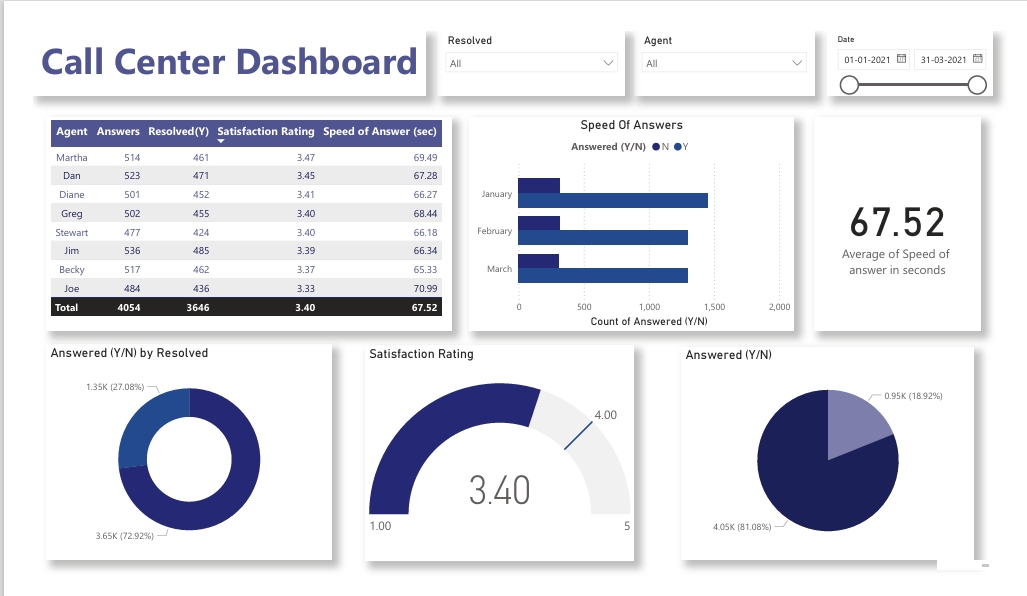

The dashboard page shown, as its layout file describes it:
{"tool":"powerbi","page":{"name":"Page 1","canvas":[1280,720],"ordinal":0},"visuals":[{"type":"slicer","fields":{"Values":["calls data.Agent"]},"box":[801.7,0,240,86.7],"z":0},{"type":"slicer","fields":{"Values":["calls data.Resolved"]},"box":[540,0,250,86.7],"z":1000},{"type":"slicer","fields":{"Values":["calls data.Date"]},"box":[1060,0,220,86.7],"z":2000},{"type":"gauge","title":" Satisfaction Rating","fields":{"Y":["calls data.Satisfaction rating"],"MaxValue":["calls data.Satisfaction rating"]},"box":[443.3,420,358.3,286.7],"z":3000},{"type":"donutChart","title":"Answered (Y/N) by Resolved","fields":{"Category":["calls data.Resolved"],"Y":["calls data.Answered (Y/N)"]},"box":[18.3,418.3,380,286.7],"z":4000},{"type":"pieChart","title":"Answered (Y/N) ","fields":{"Y":["calls data.Answered (Y/N)"],"Series":["calls data.Answered (Y/N)"]},"box":[865,421.7,390,283.3],"z":5000},{"type":"clusteredBarChart","title":"Speed Of Answers","fields":{"Category":["calls data.Date.Variation.Date Hierarchy.Month"],"Y":["calls data.Answered (Y/N)"],"Series":["calls data.Answered (Y/N)"]},"box":[581.7,115,433.3,285],"z":6000},{"type":"tableEx","fields":{"Values":["calls data.Agent","calls data.Answers","calls data.Resolved(Y)","calls data.Satisfaction rating","calls data.Speed of answer in seconds"]},"box":[18.3,115,540,285],"z":7000},{"type":"card","fields":{"Values":["calls data.Speed of answer in seconds"]},"box":[1041.7,115,221.7,285],"z":8000},{"type":"textbox","box":[1206.7,706.7,73.3,13.3],"z":9000},{"type":"textbox","box":[0,0,525,86.7],"z":10500}]}

Visuals, with their boxes on the page's 1280x720 design canvas (x1, y1, x2, y2). These are canvas units, not pixel positions in the 1027x596 screenshot, which may show the page scaled, cropped or inside an application window:
slicer - calls data.Agent: (802,0,1042,87)
slicer - calls data.Resolved: (540,0,790,87)
slicer - calls data.Date: (1060,0,1280,87)
" Satisfaction Rating" gauge: (443,420,802,707)
"Answered (Y/N) by Resolved" donutChart: (18,418,398,705)
"Answered (Y/N) " pieChart: (865,422,1255,705)
"Speed Of Answers" clusteredBarChart: (582,115,1015,400)
tableEx - calls data.Agent x calls data.Answers: (18,115,558,400)
card - calls data.Speed of answer in seconds: (1042,115,1263,400)
textbox: (1207,707,1280,720)
textbox: (0,0,525,87)
